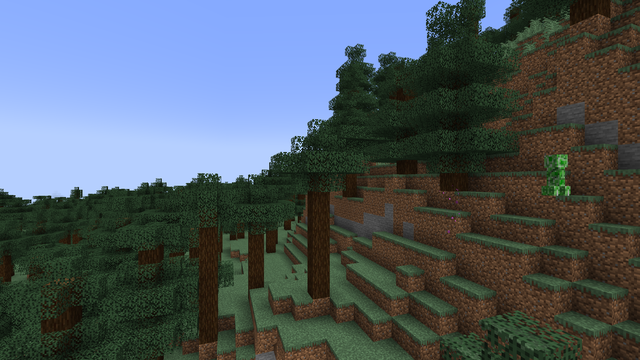creepers: (542, 152, 569, 195)
